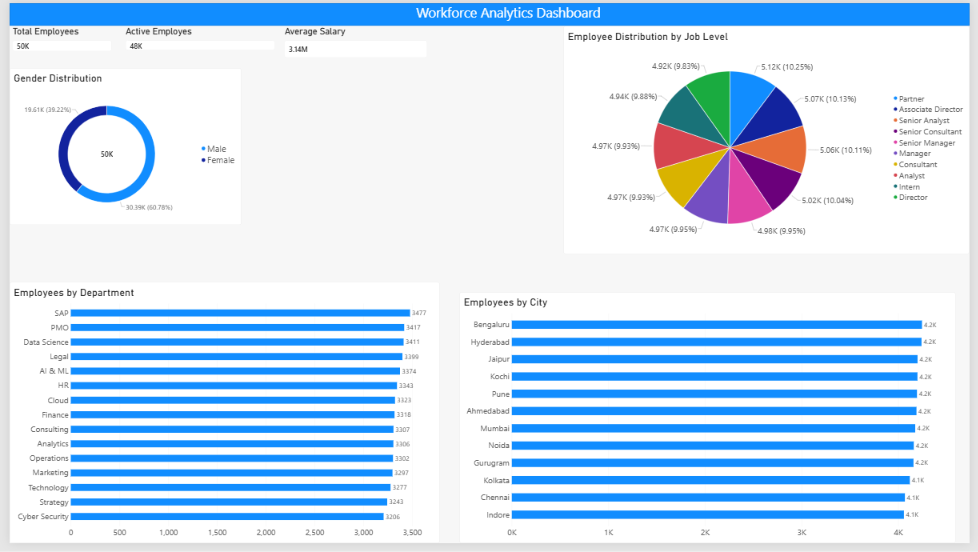

What the dashboard file says about the page in this screenshot:
{"tool":"powerbi","page":{"name":"Workforce Overview","canvas":[3840,2160],"ordinal":1},"visuals":[{"type":"textbox","box":[350,376.7,13.3,26.7],"z":0},{"type":"cardVisual","title":"Total Employees","fields":{"Data":["Count(FactWorkforce.EmployeeID)"]},"box":[10,90,396.7,100],"z":1},{"type":"cardVisual","title":"Active Employes","fields":{"Data":["Sum(FactWorkforce.IsActive)"]},"box":[463.3,93.3,596.7,96.7],"z":2},{"type":"cardVisual","title":"Average Salary","fields":{"Data":["Avg(FactWorkforce.CurrentSalary)"]},"box":[1100,90,570,126.7],"z":3},{"type":"donutChart","title":"Gender Distribution","fields":{"Category":["DimEmployee.Gender"],"Y":["Count(DimEmployee.EmployeeID)"]},"box":[0,260,926.7,626.7],"z":4},{"type":"clusteredBarChart","title":"Employees by Department","fields":{"Category":["DimDepartment.DepartmentName"],"Y":["Count(FactWorkforce.EmployeeID)"]},"box":[0,1116.7,1720,1043.3],"z":5},{"type":"clusteredBarChart","title":"Employees by City","fields":{"Category":["DimLocation.City"],"Y":["Count(FactWorkforce.EmployeeID)"]},"box":[1800,1156.7,1983.3,1003.3],"z":6},{"type":"pieChart","title":"Employee Distribution by Job Level","fields":{"Category":["DimJobLevel.JobLevel"],"Y":["Count(FactWorkforce.EmployeeID)"]},"box":[2216.7,90,1623.3,910],"z":7},{"type":"shape","box":[0,0,3840,90],"z":8},{"type":"textbox","box":[153.3,0,3686.7,90],"z":9}]}

Visuals, with their boxes in screenshot pixels (x1, y1, x2, y2), scaled from the page's 3840x2160 canvas onto the 978x552 screenshot:
textbox: (89,96,93,103)
"Total Employees" cardVisual: (3,23,104,49)
"Active Employes" cardVisual: (118,24,270,49)
"Average Salary" cardVisual: (280,23,425,55)
"Gender Distribution" donutChart: (0,66,236,227)
"Employees by Department" clusteredBarChart: (0,285,438,551)
"Employees by City" clusteredBarChart: (458,296,964,551)
"Employee Distribution by Job Level" pieChart: (565,23,977,256)
shape: (0,0,977,23)
textbox: (39,0,977,23)
